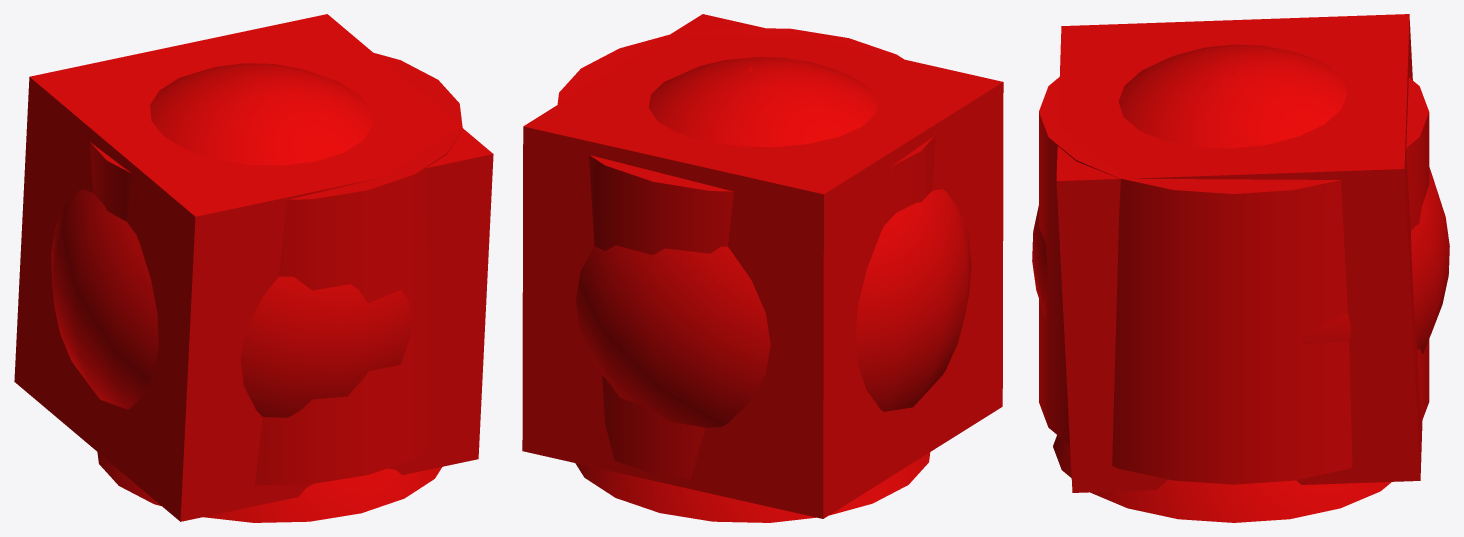
File: LodGroupStaticMesh.fbx
3 renders of one model, left to right at view 1: azimuth 30°, elevation 25°; view 2: azimuth 150°, elevation 25°; view 3: azimuth 270°, elevation 25°, orthographic. The views are drawn at different scales.
Visible parts, largest first — view 1: LOD5_Sphere, LOD0_Sphere, LOD3_Sphere, LOD4_Sphere; view 2: LOD5_Sphere, LOD0_Sphere, LOD3_Sphere, LOD4_Sphere; view 3: LOD3_Sphere, LOD5_Sphere, LOD0_Sphere, LOD4_Sphere.
Part boxes in pixels (x1,y1,x2,y2): LOD5_Sphere: (14,14,493,521); LOD0_Sphere: (51,63,411,417); LOD3_Sphere: (90,53,462,485); LOD4_Sphere: (97,77,441,522); LOD5_Sphere: (522,14,1003,518); LOD0_Sphere: (575,57,971,427); LOD3_Sphere: (557,27,935,479); LOD4_Sphere: (575,66,930,522); LOD3_Sphere: (1039,77,1429,484); LOD5_Sphere: (1056,14,1422,492); LOD0_Sphere: (1032,44,1449,354); LOD4_Sphere: (1053,68,1391,522).
Size of the model in its own units: 30.28 by 30.31 by 29.97.
